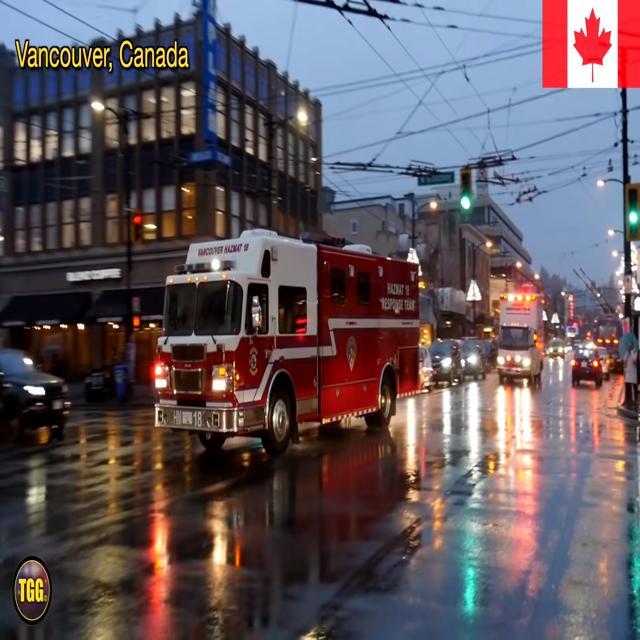emergency-vehicles: (150, 226, 425, 470)
